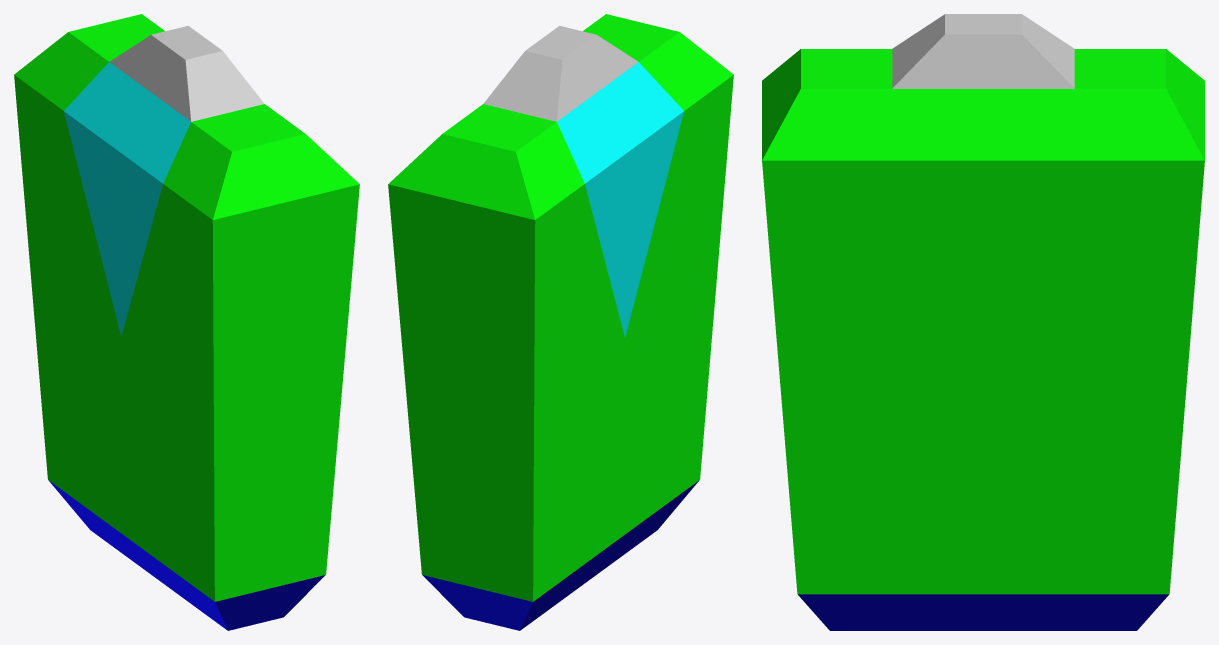
Rendered from BasicMutant-Torso.fbx.
The picture shows the model from 3 angles, left to right: view 1: azimuth 30°, elevation 25°; view 2: azimuth 150°, elevation 25°; view 3: azimuth 270°, elevation 25°; orthographic projection. The views are drawn at different scales.
Visible parts, largest first — view 1: BasicMutantTORSO; view 2: BasicMutantTORSO; view 3: BasicMutantTORSO.
Boxes of the visible parts, x1,y1,x2,y2 form: BasicMutantTORSO: (14,14,359,630); BasicMutantTORSO: (388,14,733,630); BasicMutantTORSO: (762,14,1204,630).
Size of the model in its own units: 0.2075 by 0.7157 by 0.4856.
